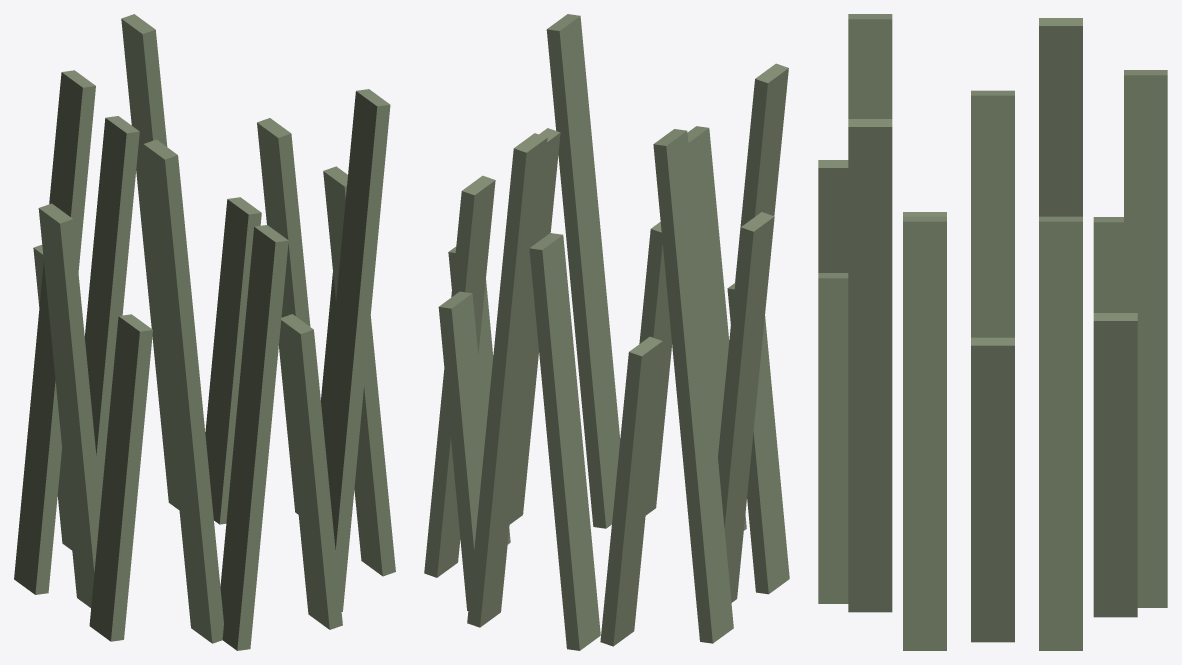
The model's file is grass_clump.glb.
3 views of the same model, side by side, from view 1: azimuth 30°, elevation 25°; view 2: azimuth 150°, elevation 25°; view 3: azimuth 270°, elevation 25° (orthographic). The views are drawn at different scales.
Visible parts, largest first — view 1: blade_5, blade_2, blade_4, blade_8, blade_7, blade_6, blade_10, blade_3, blade_12, blade_11, blade_1, blade_13 (+2 smaller); view 2: blade_8, blade_2, blade_11, blade_10, blade_7, blade_9, blade_12, blade_13, blade_6, blade_4, blade_5, blade_3 (+2 smaller); view 3: blade_2, blade_11, blade_1, blade_13, blade_12, blade_0, blade_7, blade_3, blade_8, blade_5, blade_4, blade_9.
Part boxes in pixels (x1,y1,x2,y2): blade_5: (143,139,223,643); blade_2: (324,89,390,611); blade_4: (220,225,288,650); blade_8: (14,70,95,594); blade_7: (38,203,100,607); blade_6: (89,314,152,641); blade_10: (84,116,139,501); blade_3: (280,314,342,629); blade_12: (205,197,261,524); blade_11: (121,14,179,509); blade_1: (323,166,395,576); blade_13: (257,118,310,514); blade_8: (653,129,733,643); blade_2: (546,14,620,528); blade_11: (467,133,547,627); blade_10: (529,233,600,650); blade_7: (718,212,774,602); blade_9: (600,336,662,646); blade_12: (438,291,485,610); blade_13: (424,175,495,577); blade_6: (727,283,789,594); blade_4: (687,126,746,530); blade_5: (718,63,788,457); blade_3: (639,222,671,515); blade_2: (848,119,892,612); blade_11: (1124,70,1167,607); blade_1: (903,216,946,650); blade_13: (1039,216,1082,650); blade_12: (1093,313,1137,617); blade_0: (971,337,1014,642); blade_7: (971,90,1014,337); blade_3: (818,273,848,603); blade_8: (1039,18,1082,216); blade_5: (848,14,892,118); blade_4: (818,160,848,272); blade_9: (1093,217,1123,312).
Size of the model in its own units: 0.5885 by 0.8989 by 0.5575.
